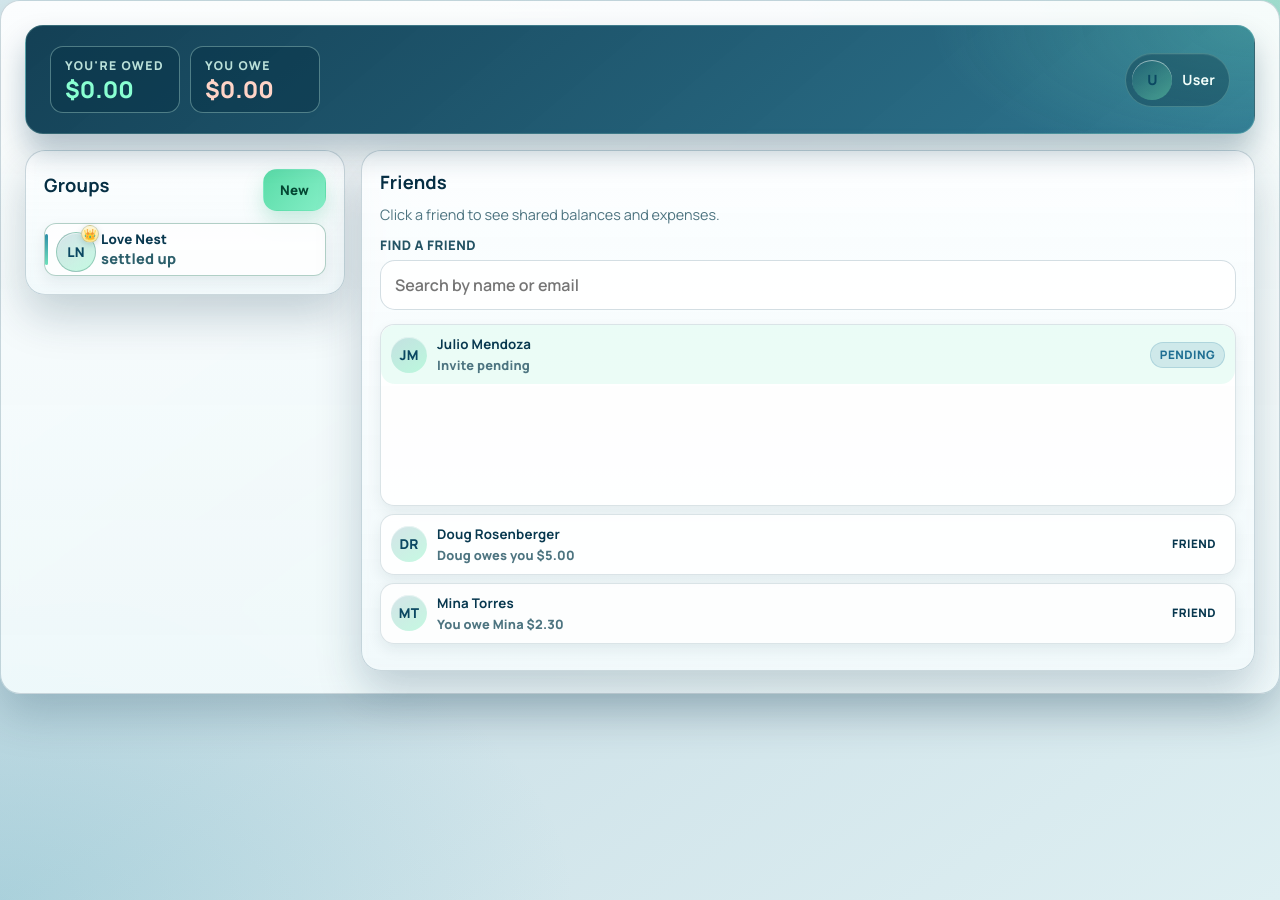
DashboardView › New button opens the create group modal
The image size is (1280, 900).
Click the button "New" at (294, 190), box [263,169,326,211]
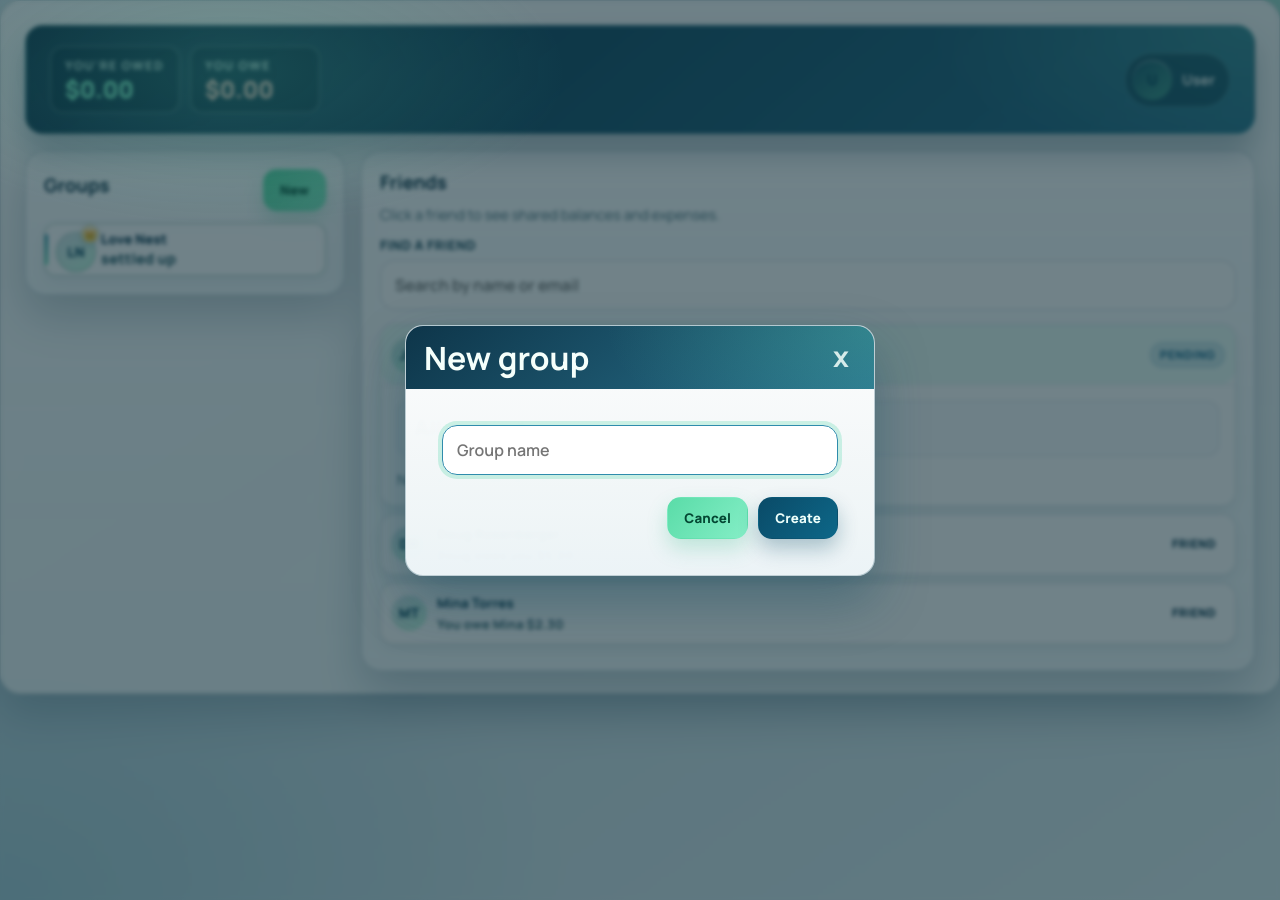
expect the dialog "New group" is shown: met, box [405,324,875,576]
expect the heading "New group" is shown: met, box [424,342,589,374]
